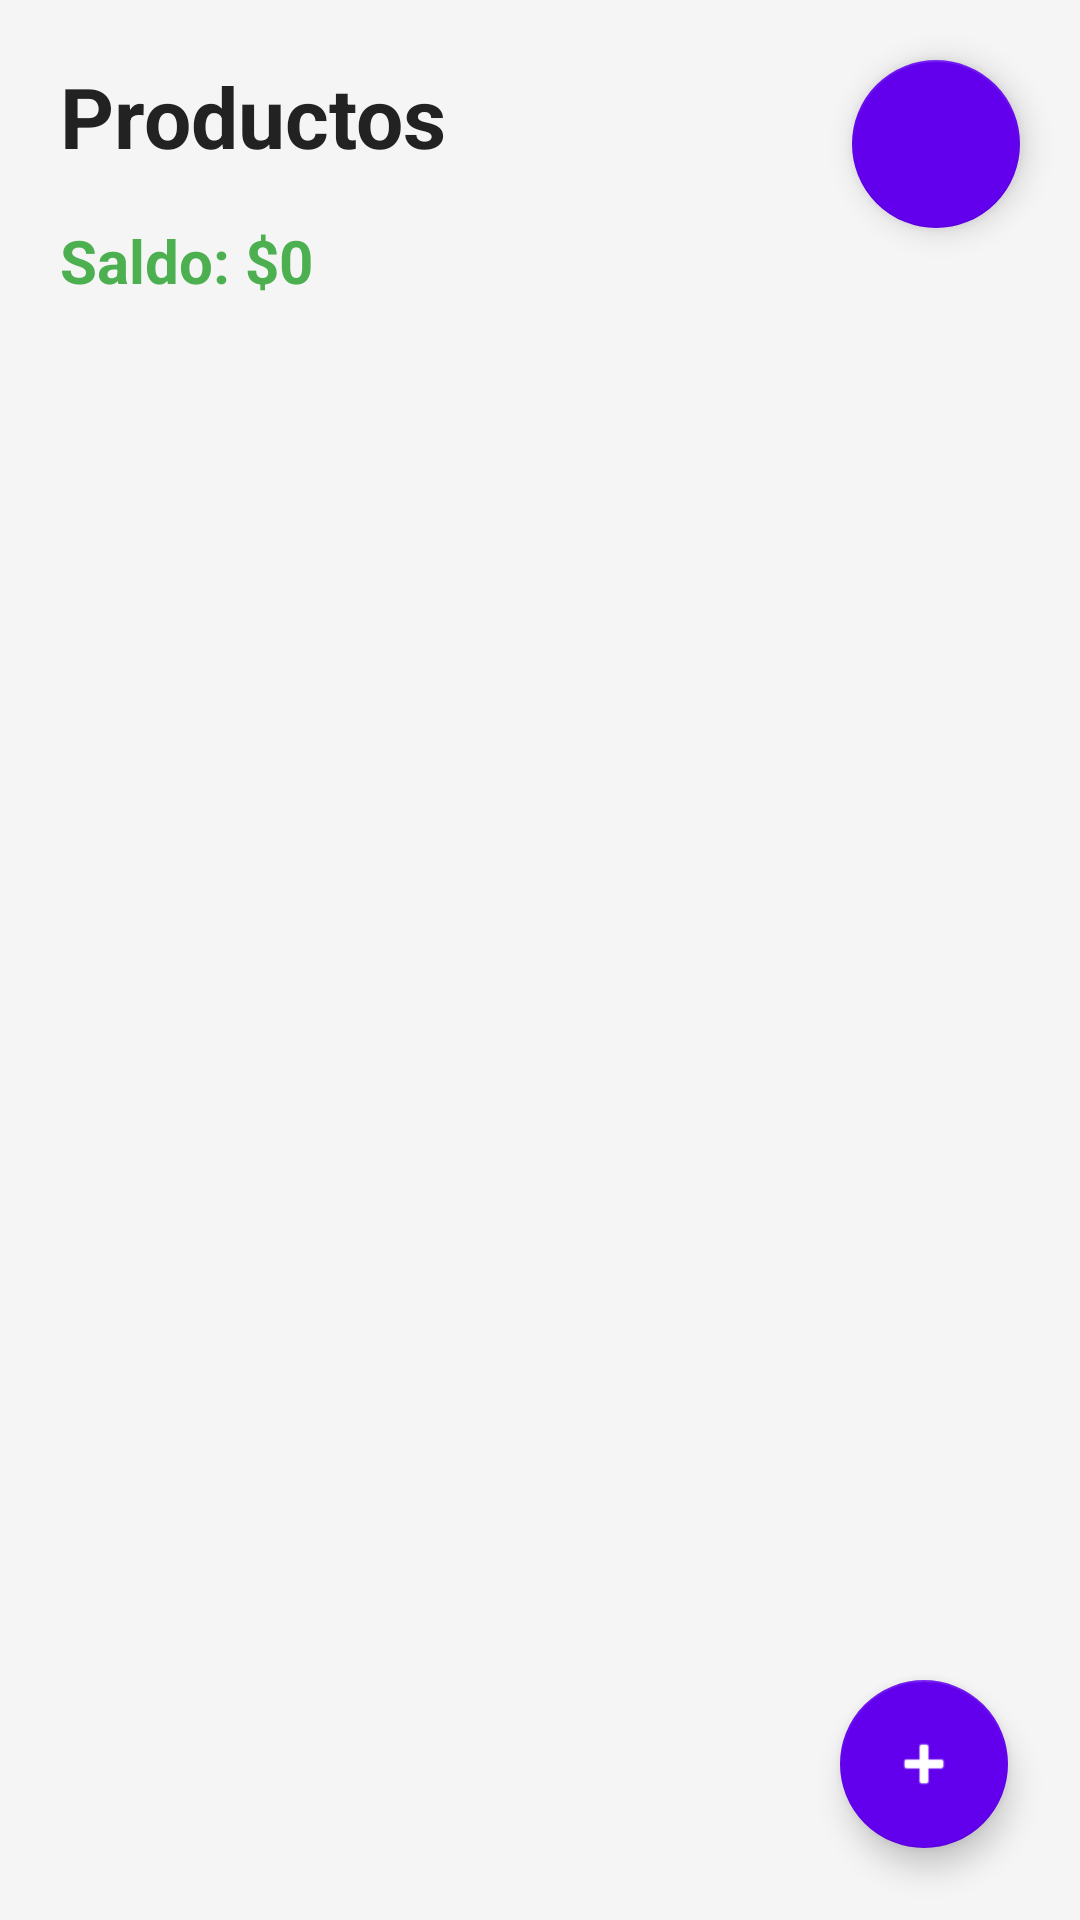

Where to tap for icons on this 1080×1920 app screen, as point (x, y):
Agregar producto: point (924, 1764)
